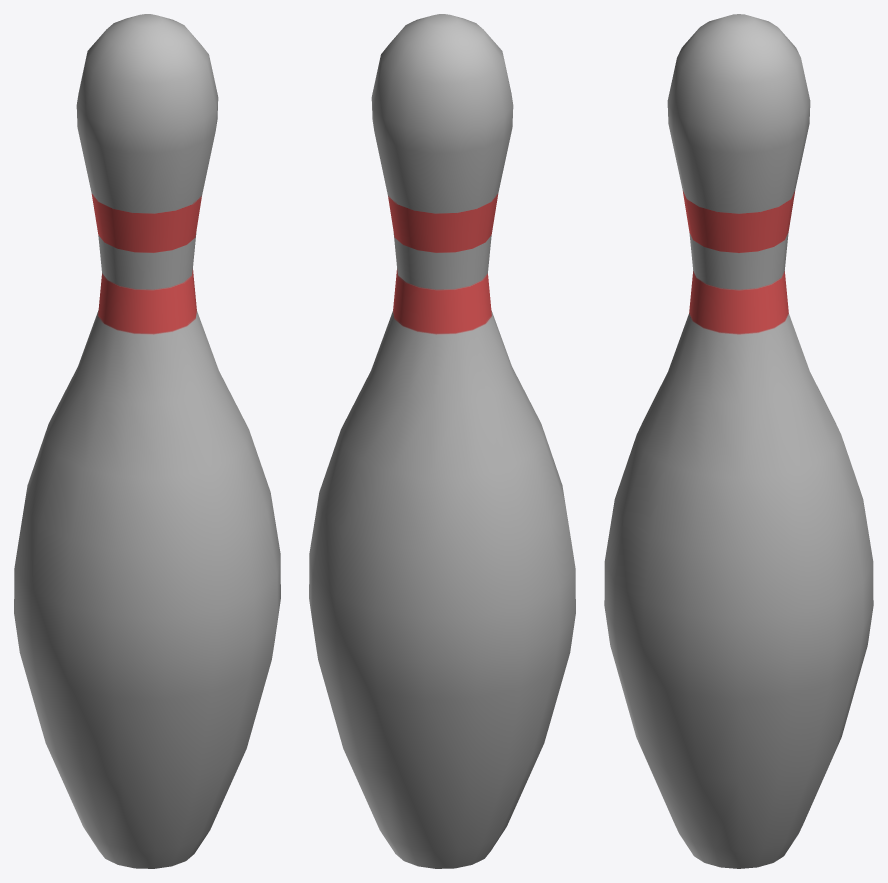
Rendered from Pin.obj.
The picture shows the model from 3 angles, left to right: view 1: azimuth 30°, elevation 25°; view 2: azimuth 150°, elevation 25°; view 3: azimuth 270°, elevation 25°; orthographic projection.
Parts seen in each view (by area): view 1: Kegel_Mesh.005; view 2: Kegel_Mesh.005; view 3: Kegel_Mesh.005.
Boxes of the visible parts, x1=… form: Kegel_Mesh.005: x1=14, y1=14, x2=280, y2=868; Kegel_Mesh.005: x1=309, y1=14, x2=575, y2=868; Kegel_Mesh.005: x1=604, y1=14, x2=873, y2=868.
Bounding box in the file's own units: 1.2 × 4.08 × 1.2.
1 material, 1 textured.
